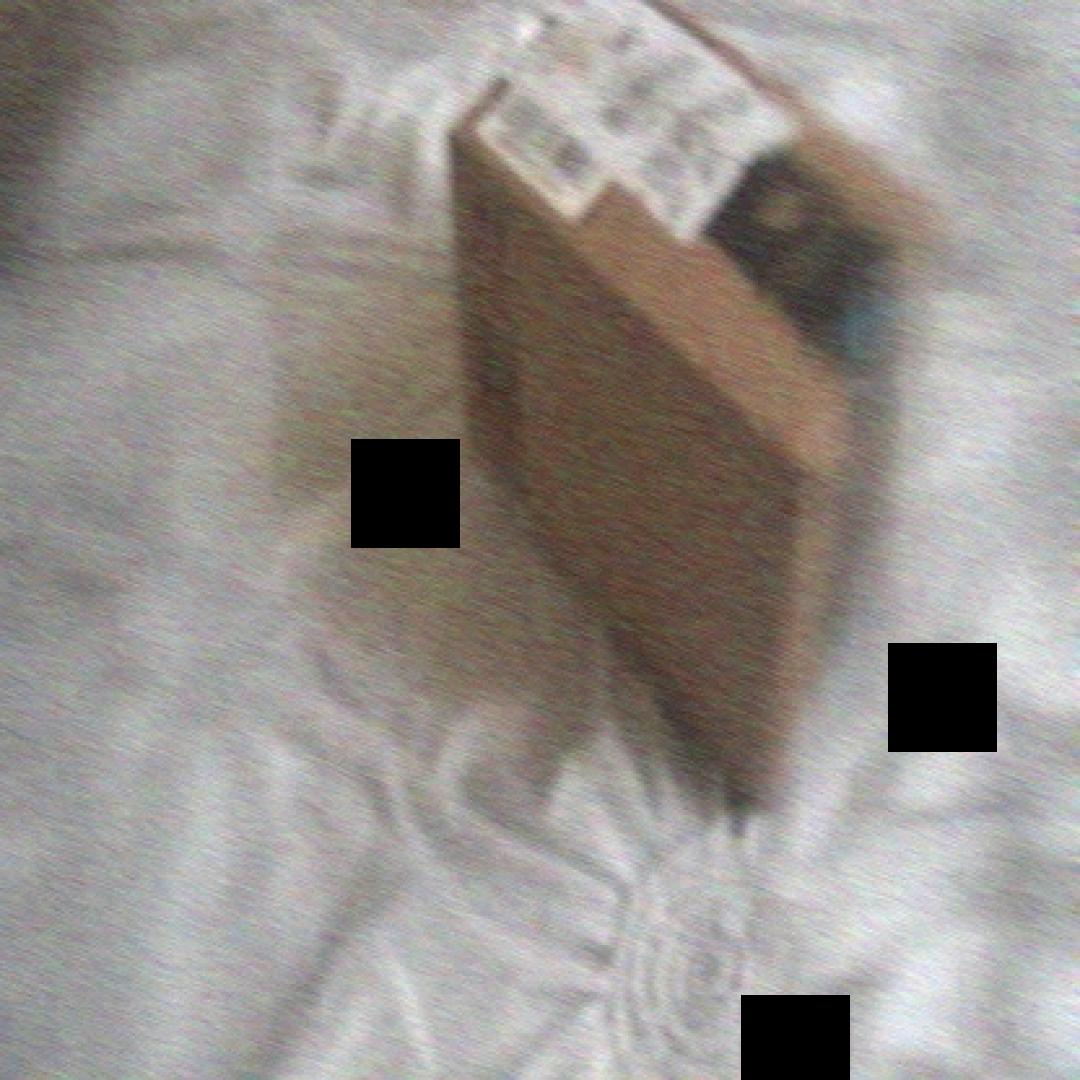package: (441, 0, 958, 844)
